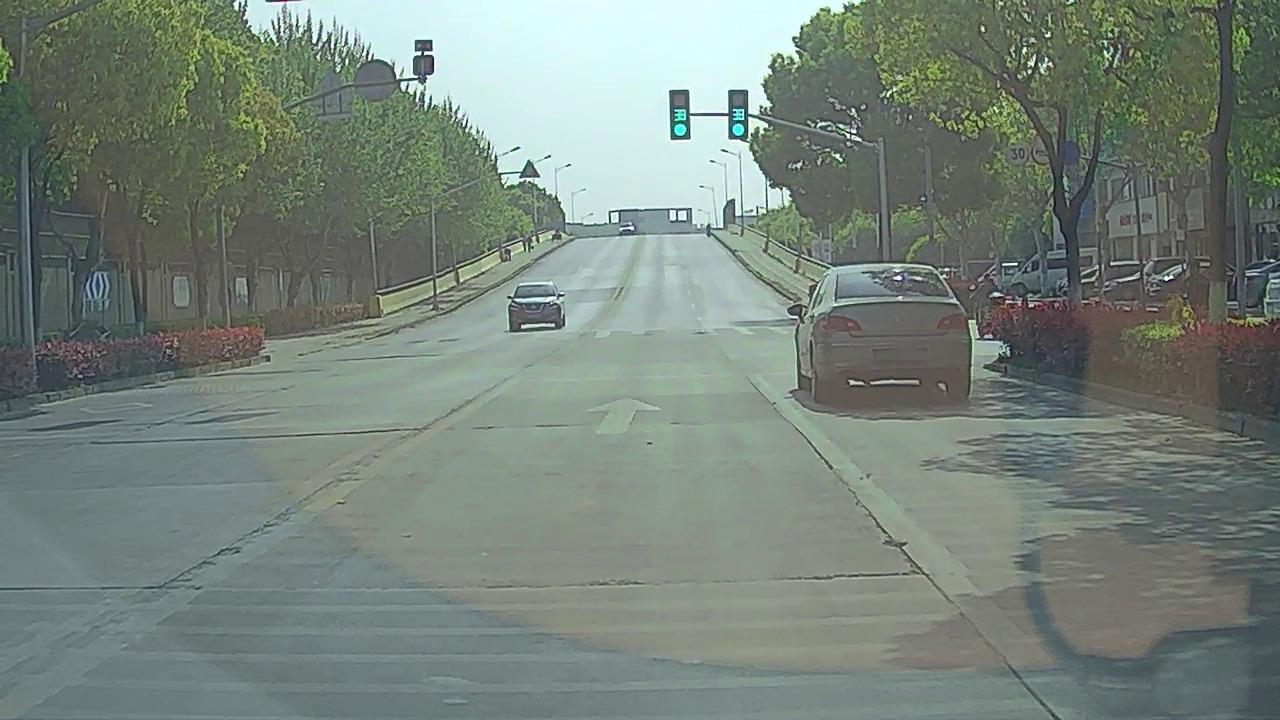traffic_light: (671, 90, 690, 139), (729, 90, 748, 138)
